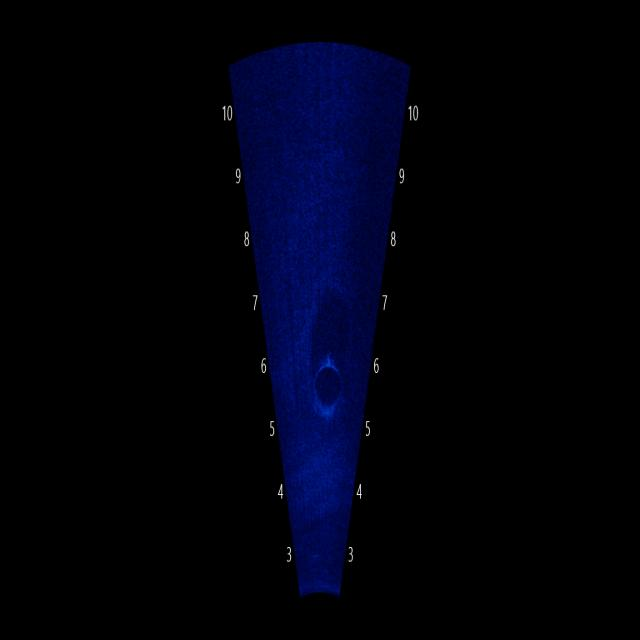circle: (299, 341, 364, 441)
